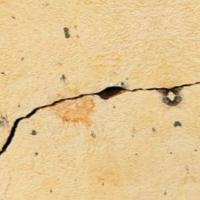crack: (0, 78, 199, 157)
